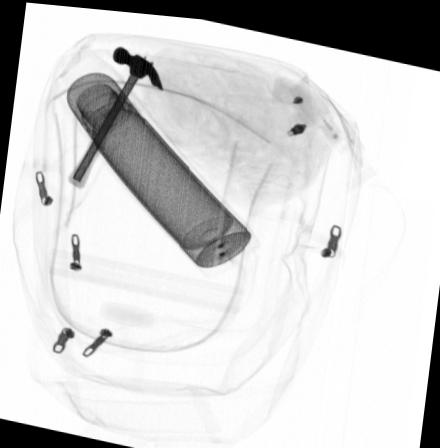Hammer: (66, 42, 163, 187)
